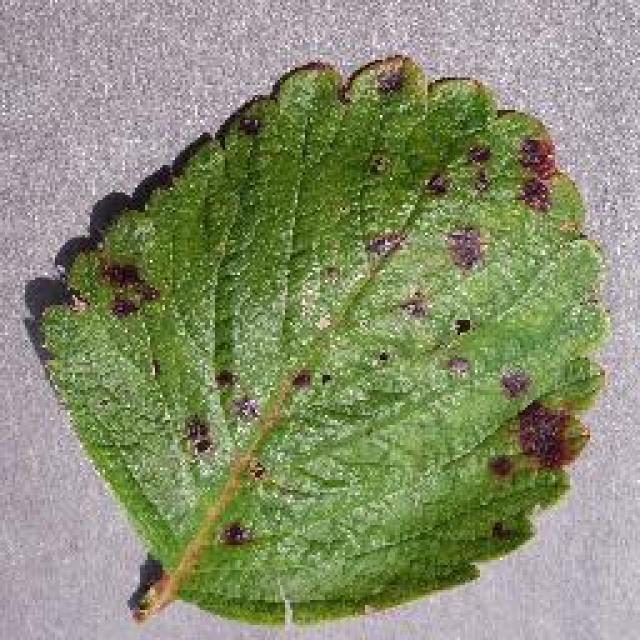Strawberry leaf scorch: (157, 178, 575, 495)
